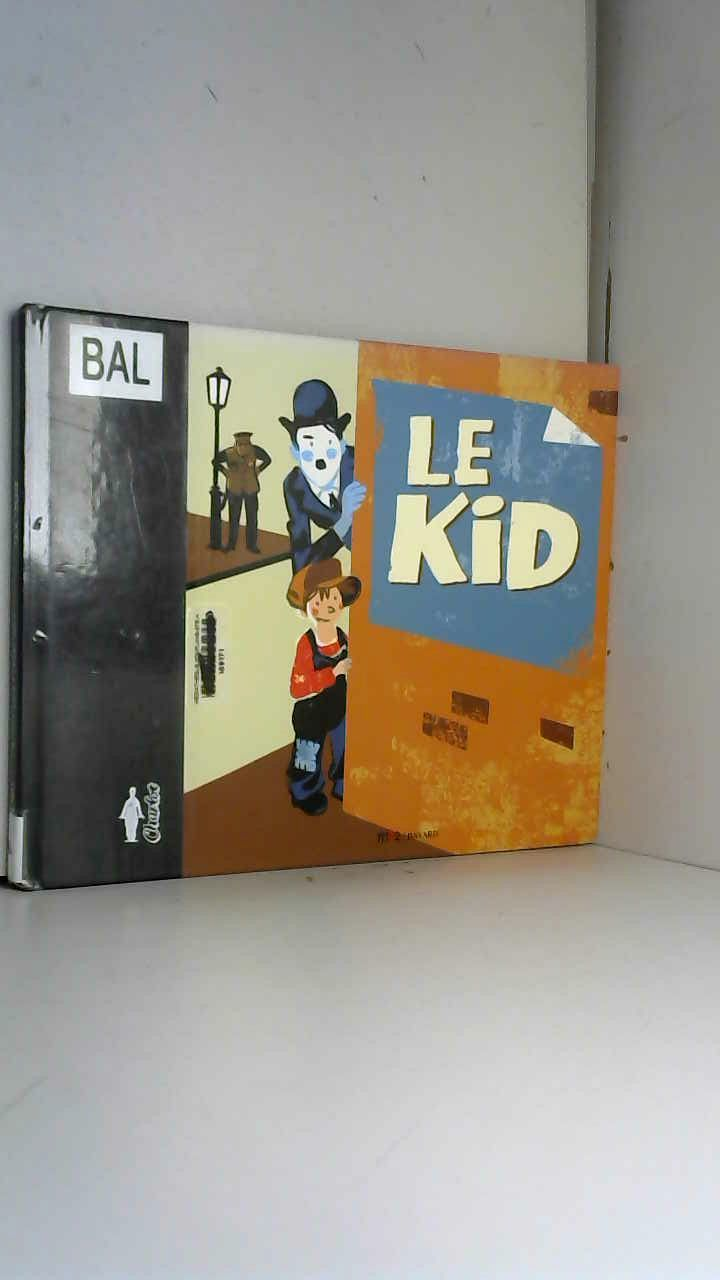book: (0, 277, 657, 918)
